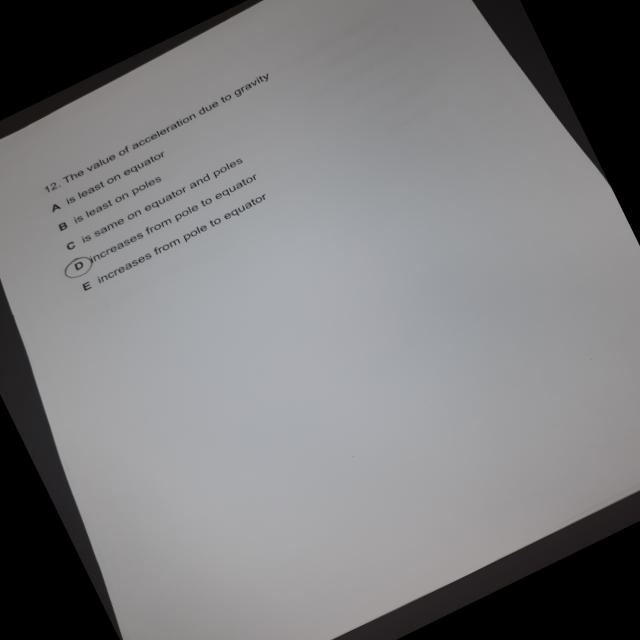D: (58, 249, 102, 285)
